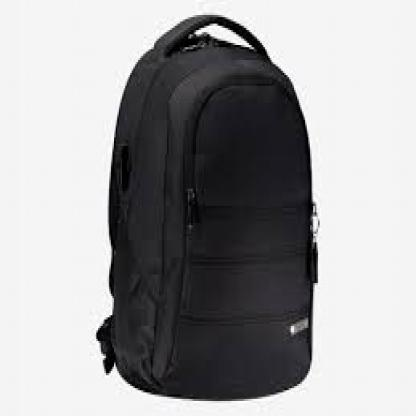morral: (90, 6, 337, 399)
